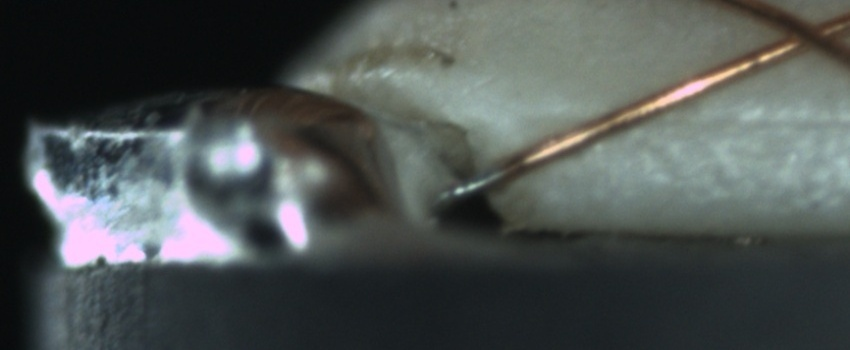CL: (758, 3, 844, 63)
DL: (551, 90, 849, 151)
TS: (434, 168, 506, 205)
